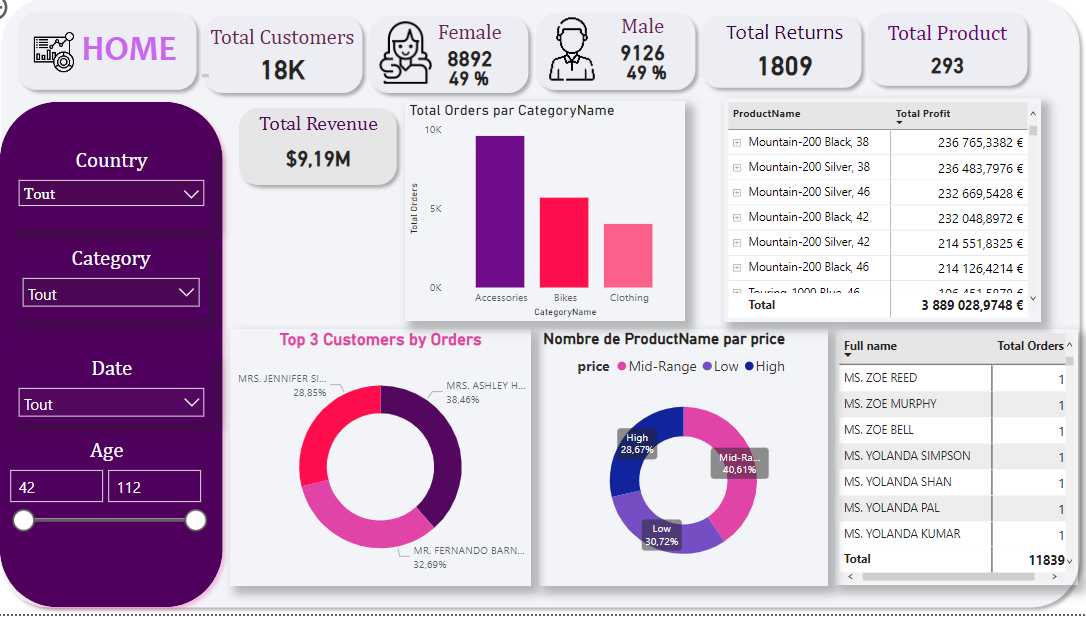

The page's visual inventory and layout, read from the dashboard file:
{"tool":"powerbi","page":{"name":"Page 1","canvas":[1280,720],"ordinal":0},"visuals":[{"type":"shape","box":[18,0,1262,721],"z":0},{"type":"shape","box":[251.3,20.5,201.6,106.7],"z":1000},{"type":"shape","box":[442.7,20.5,201.6,106.7],"z":2000},{"type":"shape","box":[635.6,17.5,201.6,106.7],"z":3000},{"type":"shape","box":[17.5,119.8,274.7,600.5],"z":4000},{"type":"shape","box":[1018.4,17.5,201.6,102.3],"z":5000},{"type":"shape","title":"HOME","box":[38,16.1,223.6,108.1],"z":6000},{"type":"shape","box":[827,20.5,201.6,100.8],"z":7000},{"type":"card","title":"Total Customers","fields":{"Values":["AdventureWorks_Customers.customers"]},"box":[226.2,41.1,251.9,72],"z":8000},{"type":"card","fields":{"Values":["AdventureWorks_Customers.%female"]},"box":[505.6,74.5,124.2,52.6],"z":9000},{"type":"card","title":"Female","fields":{"Values":["AdventureWorks_Customers.Female"]},"box":[488,33.6,160.7,61.4],"z":10000},{"type":"image","box":[453,30.7,81.8,81.8],"z":11000},{"type":"image","box":[644.4,26.3,83.3,83.3],"z":12000},{"type":"card","title":"Male","fields":{"Values":["AdventureWorks_Customers.Male"]},"box":[685.3,26.3,165.1,61.4],"z":13000},{"type":"card","fields":{"Values":["AdventureWorks_Customers.%female"]},"box":[727.7,61.4,89.1,67.2],"z":14000},{"type":"card","title":"Total Product","fields":{"Values":["AdventureWorks_Products.productid"]},"box":[1027.2,35.1,182.6,74.5],"z":15000},{"type":"actionButton","title":"Button","box":[0,0,100,40],"z":16000},{"type":"slicer","title":"Country","fields":{"Values":["AdventureWorks_Territories.Country-p"]},"box":[38,181.2,233.8,93.5],"z":17000},{"type":"slicer","title":"Category","fields":{"Values":["AdventureWorks_Product_Categories.CategoryName","AdventureWorks_Product_Subcategories.SubcategoryName"]},"box":[42.4,293.7,223.6,84.7],"z":18000},{"type":"textbox","title":"HOME","box":[78.4,42.4,194.1,63],"z":19000},{"type":"image","box":[58.1,42.4,60.5,58.1],"z":20000},{"type":"slicer","title":"Date","fields":{"Values":["AdventureWorks_Calendar.Date.Variation.Hiérarchie de dates.Année","AdventureWorks_Calendar.Date.Variation.Hiérarchie de dates.Trimestre","AdventureWorks_Calendar.Date.Variation.Hiérarchie de dates.Mois","AdventureWorks_Calendar.Date.Variation.Hiérarchie de dates.Jour"]},"box":[37.8,420.6,234.4,78.1],"z":22000},{"type":"donutChart","title":"Top 3 Customers by Orders","fields":{"Category":["AdventureWorks_Customers.Full name"],"Y":["AdventureWorks_Sales_2017.Total Orders"]},"box":[291.6,390.8,347.5,296.2],"z":23000},{"type":"pivotTable","fields":{"Rows":["AdventureWorks_Products.ProductName","AdventureWorks_Product_Subcategories.SubcategoryName","AdventureWorks_Product_Categories.CategoryName"],"Values":["AdventureWorks_Sales_2017.Total Profit"]},"box":[861.4,124.5,365.5,258.3],"z":24000},{"type":"pivotTable","fields":{"Rows":["AdventureWorks_Customers.Full name"],"Values":["AdventureWorks_Sales_2017.Total Orders"]},"box":[989.9,390.8,280.3,295.1],"z":25000},{"type":"slicer","title":"Age","fields":{"Values":["AdventureWorks_Customers.Age"]},"box":[25.1,515.1,248.1,109.9],"z":26000},{"type":"shape","box":[293,127.2,200.5,106.7],"z":27000},{"type":"card","title":"Total Revenue","fields":{"Values":["AdventureWorks_Sales_2017.Total Revenue"]},"box":[312.3,140.1,161.9,81],"z":28000},{"type":"clusteredColumnChart","fields":{"Category":["AdventureWorks_Product_Categories.CategoryName"],"Y":["AdventureWorks_Sales_2017.Total Orders"]},"box":[493.5,128.5,322.6,254.5],"z":29000},{"type":"donutChart","fields":{"Category":["AdventureWorks_Products.price"],"Y":["AdventureWorks_Products.ProductName"]},"box":[648.1,390.9,333.3,296.4],"z":32000},{"type":"card","title":"Total Returns","fields":{"Values":["AdventureWorks_Returns.Total Returns"]},"box":[833.7,33.4,194.9,76.1],"z":32001}]}

Visuals, with their boxes in screenshot pixels (x1, y1, x2, y2), scaled from the page's 1280x720 canvas onto the 1086x617 screenshot:
shape: BBox(15, 0, 1085, 616)
shape: BBox(213, 18, 384, 109)
shape: BBox(376, 18, 547, 109)
shape: BBox(539, 15, 710, 106)
shape: BBox(15, 103, 248, 616)
shape: BBox(864, 15, 1035, 103)
"HOME" shape: BBox(32, 14, 222, 106)
shape: BBox(702, 18, 873, 104)
"Total Customers" card: BBox(192, 35, 406, 97)
card - AdventureWorks_Customers.%female: BBox(429, 64, 534, 109)
"Female" card: BBox(414, 29, 550, 81)
image: BBox(384, 26, 454, 96)
image: BBox(547, 23, 617, 94)
"Male" card: BBox(581, 23, 722, 75)
card - AdventureWorks_Customers.%female: BBox(617, 53, 693, 110)
"Total Product" card: BBox(872, 30, 1026, 94)
"Button" actionButton: BBox(0, 0, 85, 34)
"Country" slicer: BBox(32, 155, 231, 235)
"Category" slicer: BBox(36, 252, 226, 324)
"HOME" textbox: BBox(67, 36, 231, 90)
image: BBox(49, 36, 101, 86)
"Date" slicer: BBox(32, 360, 231, 427)
"Top 3 Customers by Orders" donutChart: BBox(247, 335, 542, 589)
pivotTable - AdventureWorks_Products.ProductName x AdventureWorks_Product_Subcategories.SubcategoryName: BBox(731, 107, 1041, 328)
pivotTable - AdventureWorks_Customers.Full name x AdventureWorks_Sales_2017.Total Orders: BBox(840, 335, 1078, 588)
"Age" slicer: BBox(21, 441, 232, 536)
shape: BBox(249, 109, 419, 200)
"Total Revenue" card: BBox(265, 120, 402, 189)
clusteredColumnChart - AdventureWorks_Product_Categories.CategoryName x AdventureWorks_Sales_2017.Total Orders: BBox(419, 110, 692, 328)
donutChart - AdventureWorks_Products.price x AdventureWorks_Products.ProductName: BBox(550, 335, 833, 589)
"Total Returns" card: BBox(707, 29, 873, 94)
